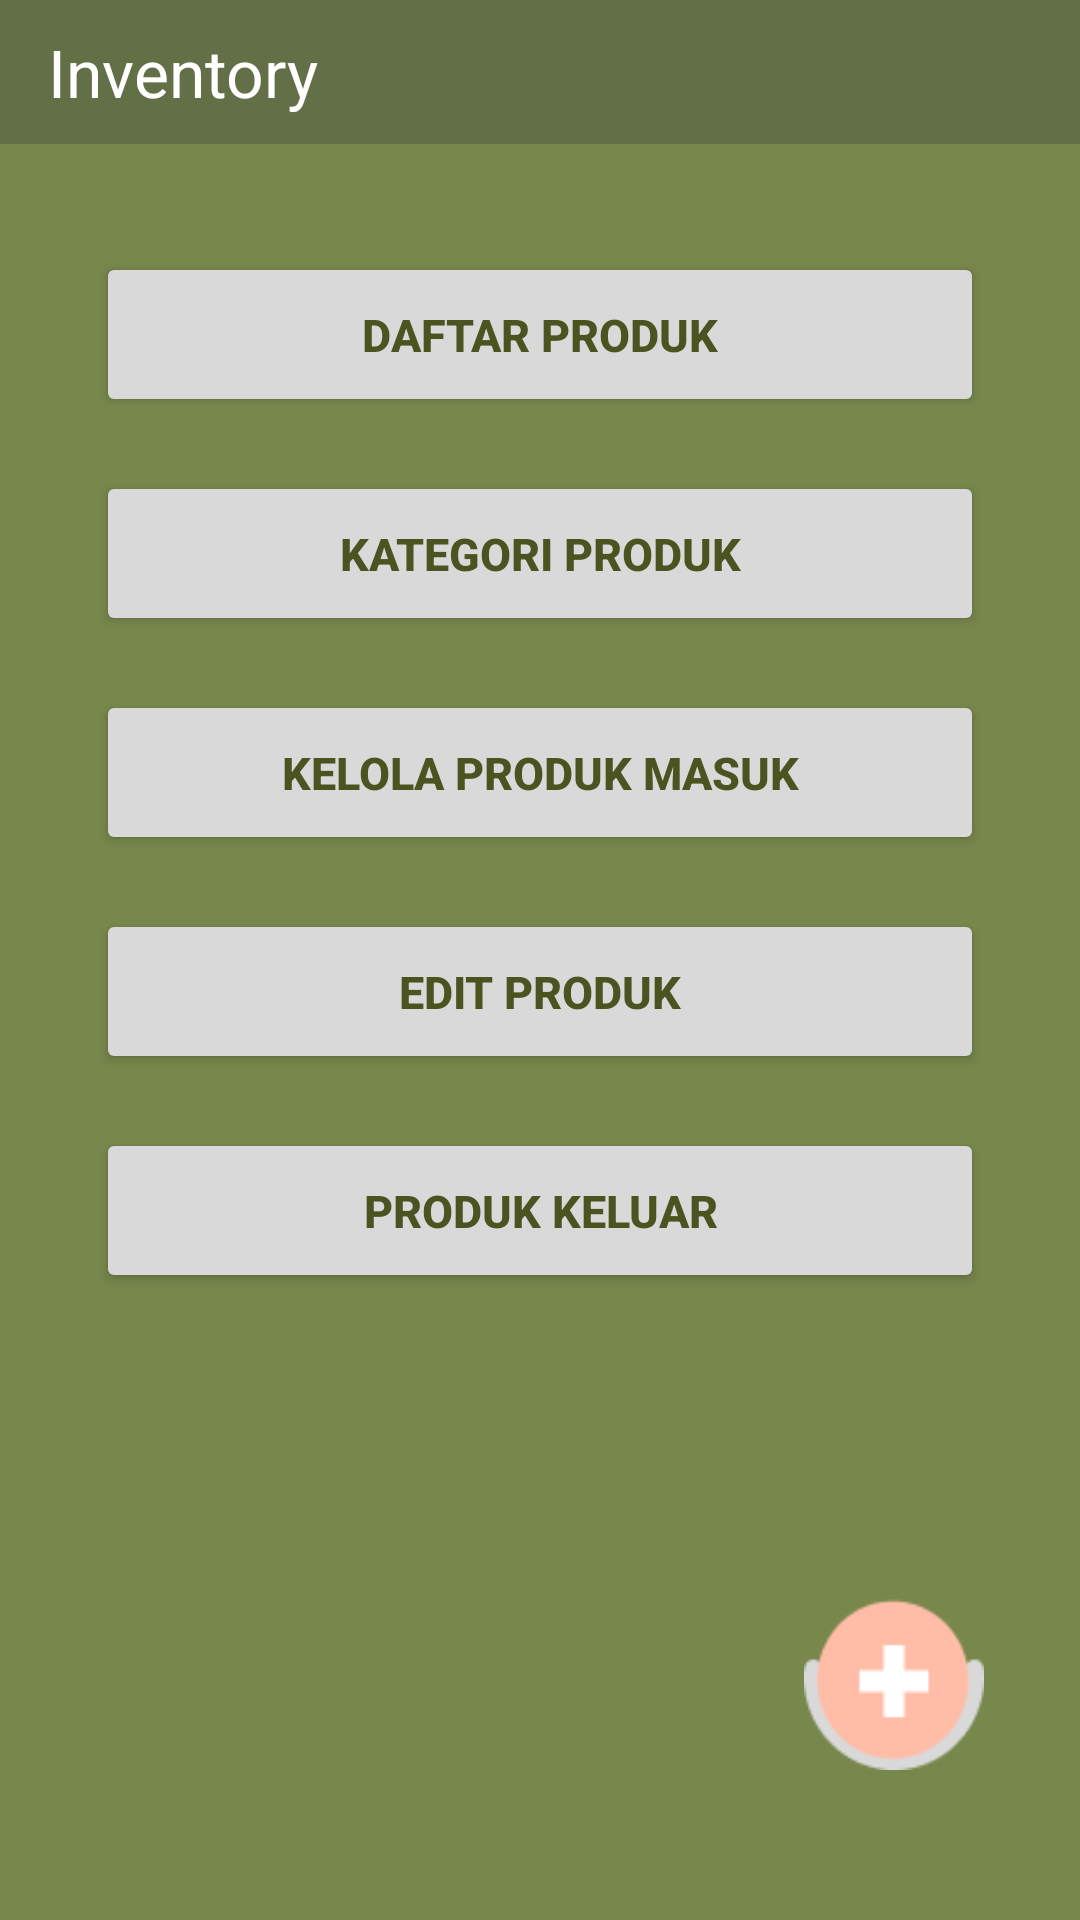

Icons on this 1080x1920 Android screen, each with its box as [left=x1, top=y1, right=x2, bottom=y2]:
Tambah Item: [left=804, top=1600, right=984, bottom=1770]
